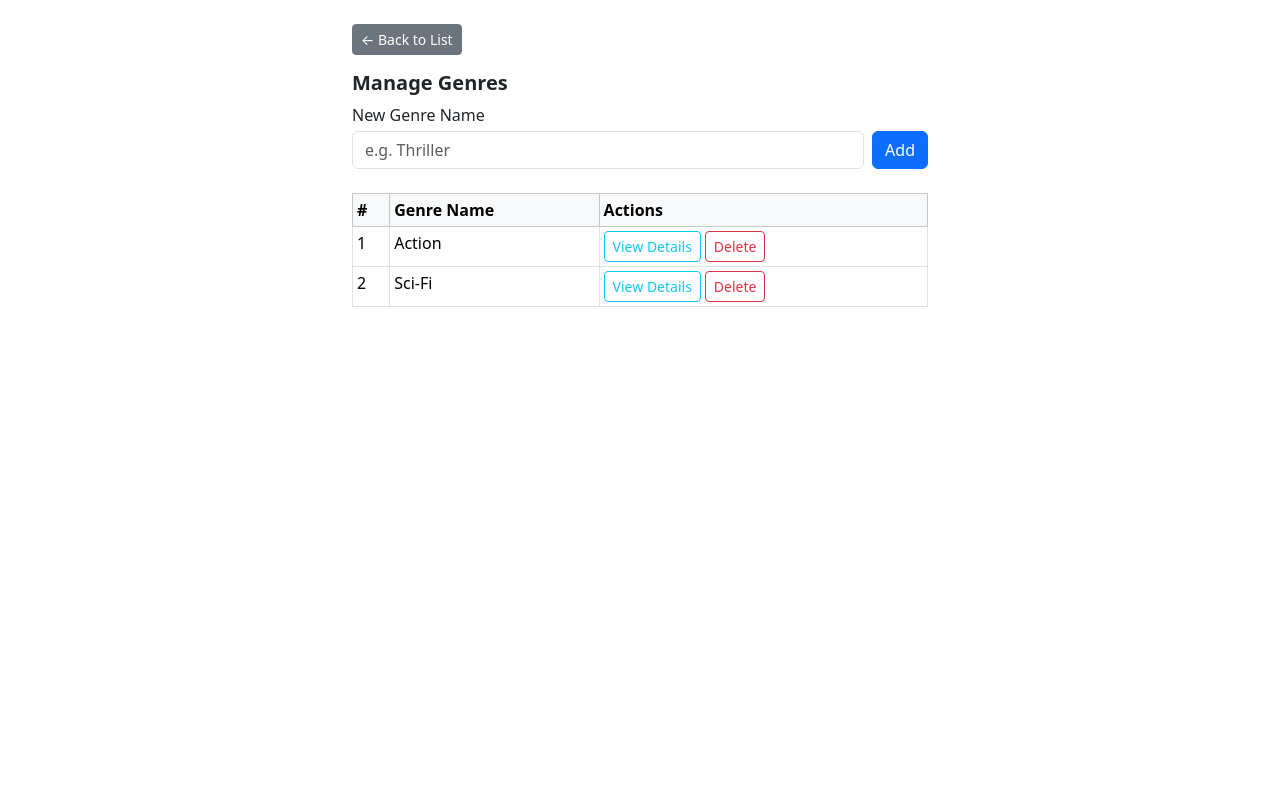
Scenario: ManageGenres — TODO-10 › TODO-10: confirming delete on genre NOT in use succeeds
Expected: the text "Sci-Fi" is shown, left=390, top=266, right=599, bottom=306
Note: Sci-Fi has no movies → should delete
Click the button "Delete" in the row of "Sci-Fi".
click(735, 286)  # box left=705, top=271, right=765, bottom=302
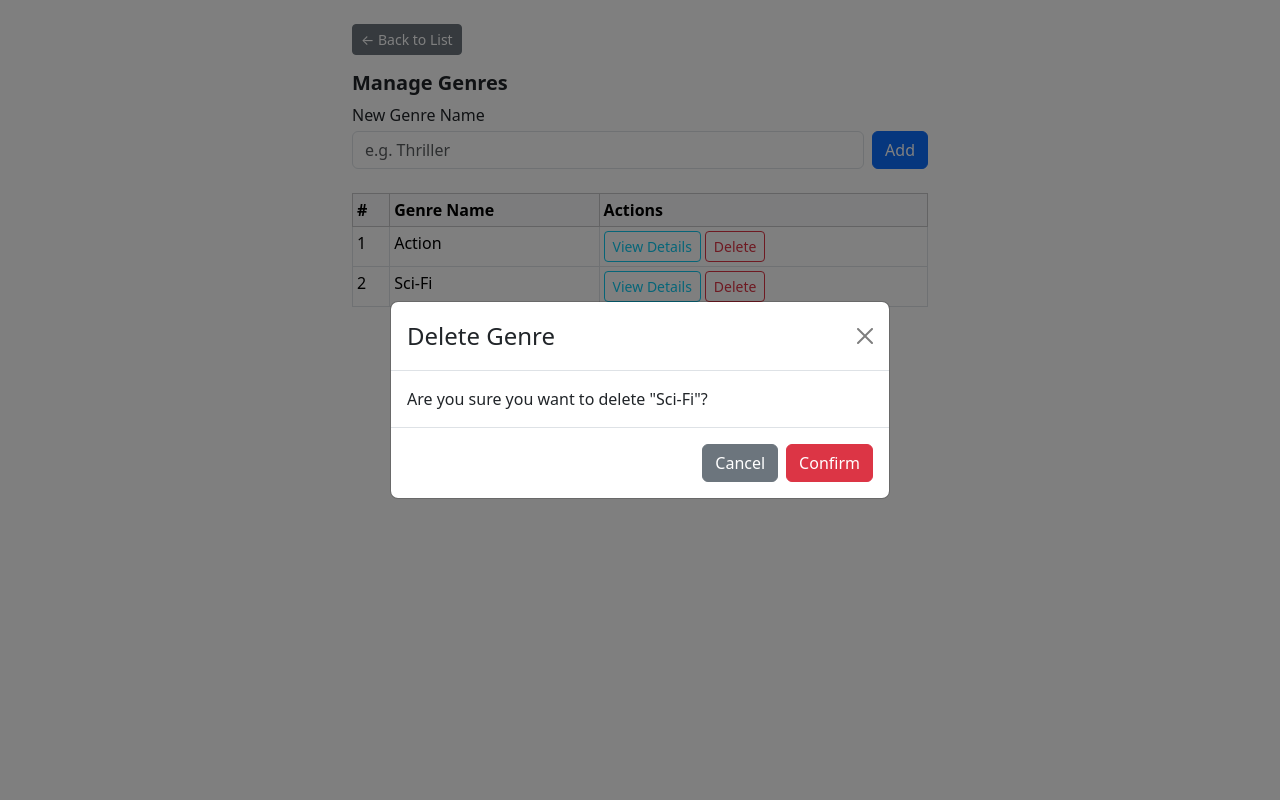
Result: the text "Are you sure you want to delete \"Sci-Fi\"?" is shown at left=407, top=388, right=708, bottom=410
Click the button "Confirm".
click(830, 463)  # box left=786, top=444, right=873, bottom=482
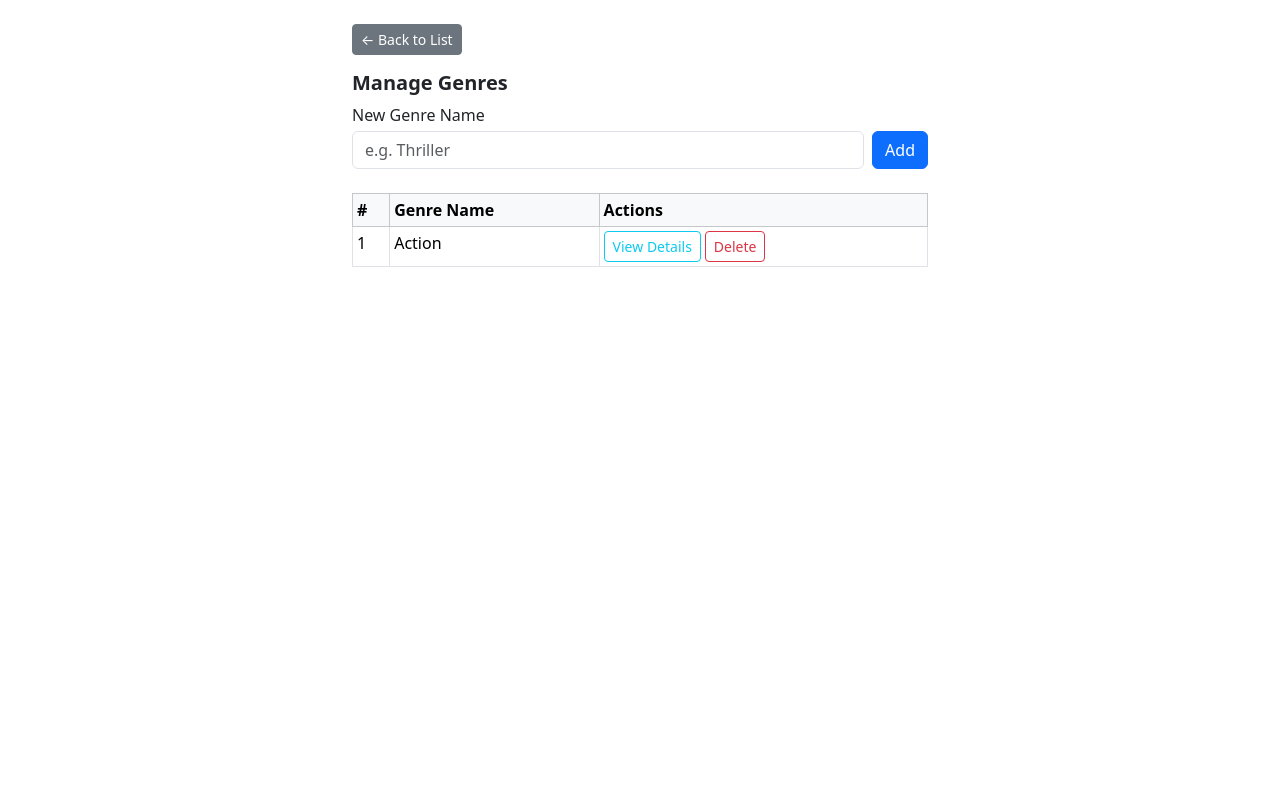
Result: the text "Sci-Fi" is gone
